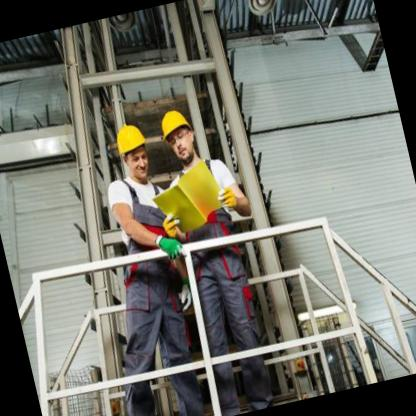helmet: (108, 115, 159, 186), (152, 100, 202, 164)
